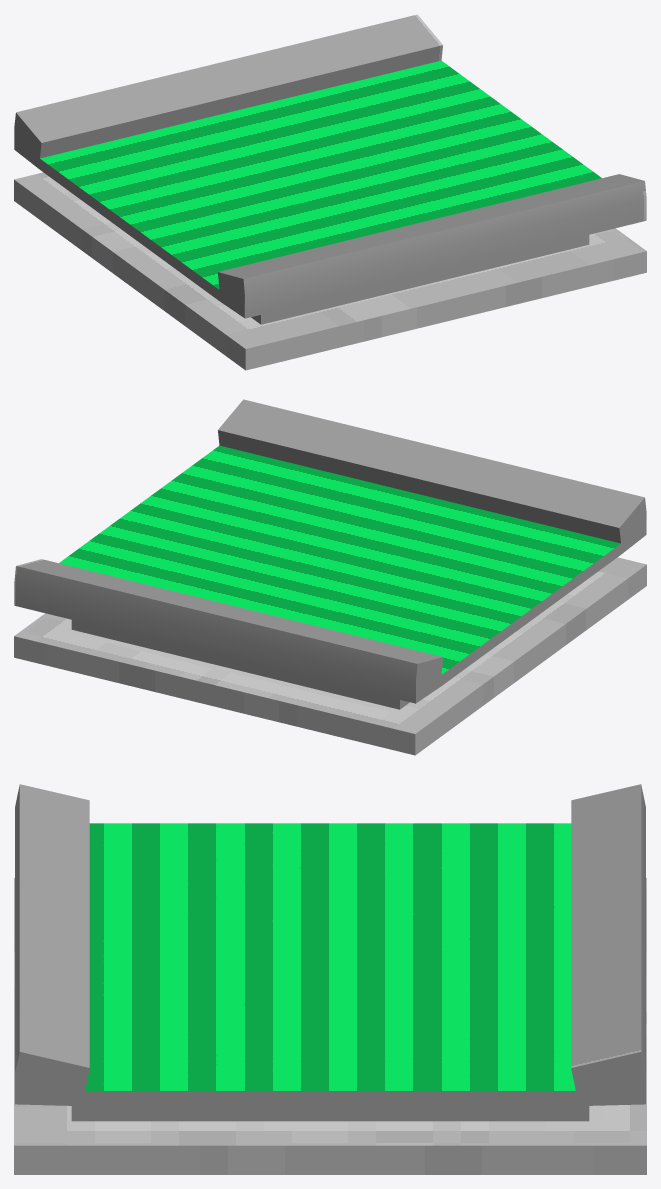
The model's file is solar_panel_static.obj.
3 renders of one model, top to bottom at view 1: azimuth 30°, elevation 25°; view 2: azimuth 150°, elevation 25°; view 3: azimuth 270°, elevation 25°, orthographic. The views are drawn at different scales.
Parts seen in each view (by area): view 1: solarPanel; view 2: solarPanel; view 3: solarPanel.
Part boxes in pixels (left/top/right/bottom): solarPanel: left=14, top=14, right=646, bottom=370; solarPanel: left=14, top=399, right=646, bottom=755; solarPanel: left=14, top=784, right=646, bottom=1174.
Size of the model in its own units: 1 by 0.2146 by 1.
